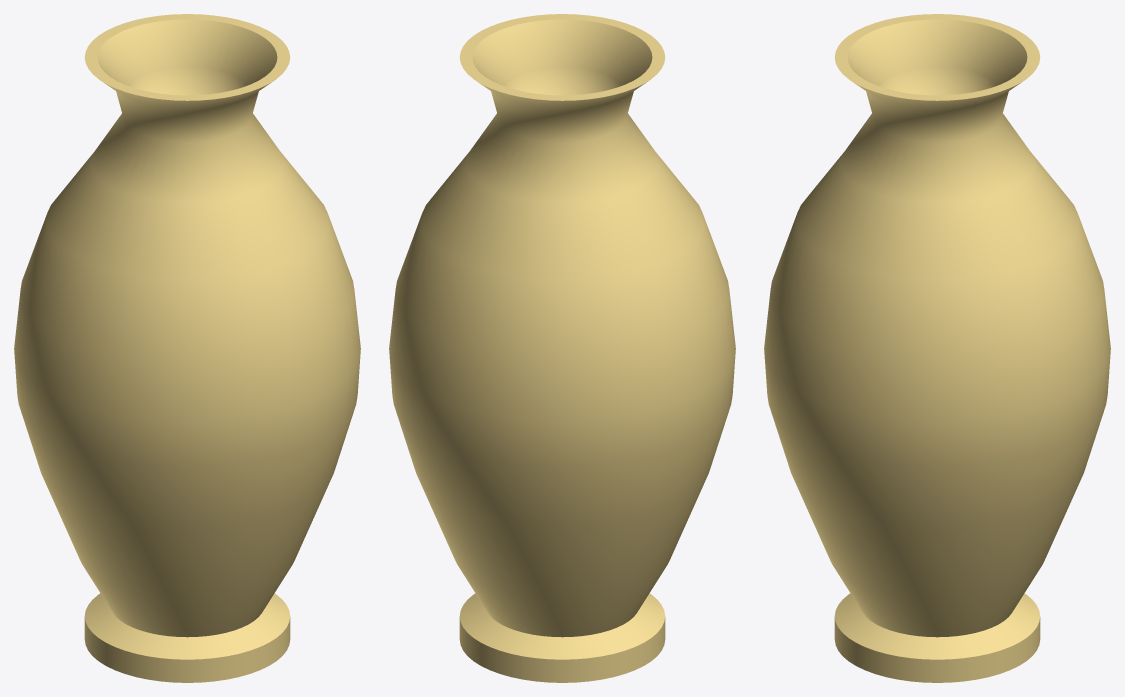
The model's file is vase.glb.
3 views of the same model, side by side, from view 1: azimuth 30°, elevation 25°; view 2: azimuth 150°, elevation 25°; view 3: azimuth 270°, elevation 25° (orthographic).
Parts seen in each view (by area): view 1: vase; view 2: vase; view 3: vase.
Part boxes in pixels (x1,y1,x2,y2): vase: (14,14,360,682); vase: (389,14,735,682); vase: (764,14,1110,682).
Bounding box in the file's own units: 0.54 × 1 × 0.54.
